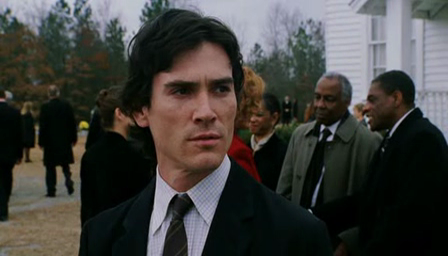face: (151, 43, 237, 172), (312, 80, 341, 125), (365, 81, 384, 132), (247, 97, 269, 134)
person: (78, 4, 336, 256), (351, 69, 448, 256), (275, 71, 384, 234), (79, 85, 158, 231), (225, 63, 266, 183), (243, 93, 288, 193), (38, 85, 78, 197), (1, 89, 25, 223), (20, 101, 36, 163)
